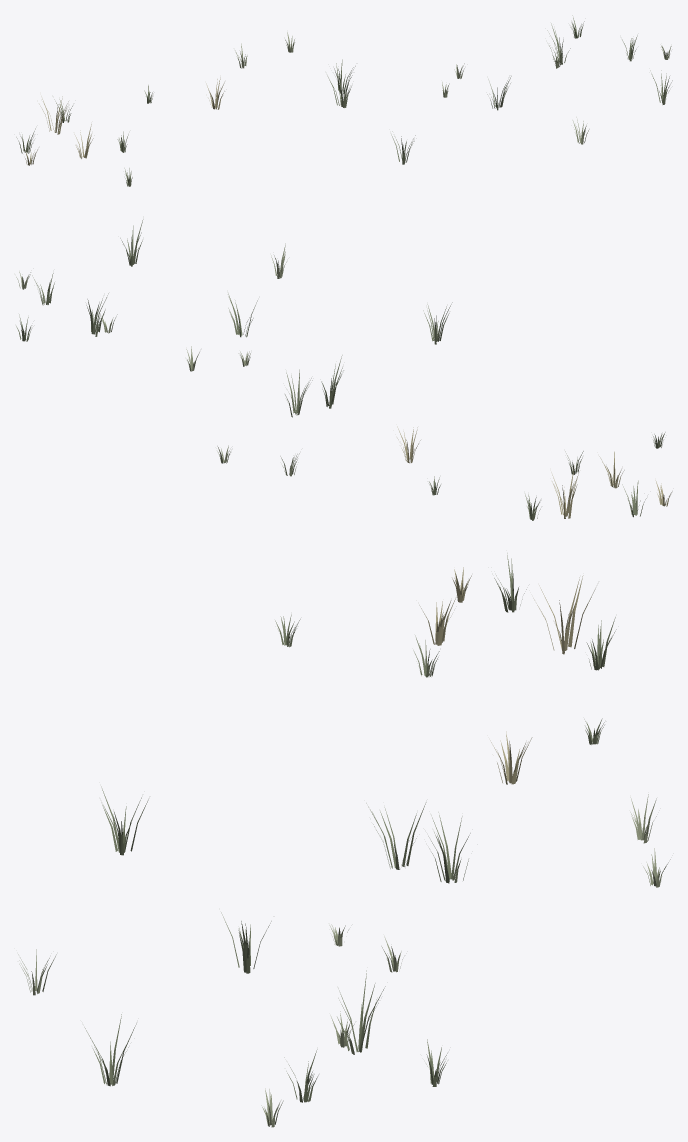
Rendered from AE_Grass_2_2.fbx.
3 views of the same model, one above another, from view 1: azimuth 30°, elevation 25°; view 2: azimuth 150°, elevation 25°; view 3: azimuth 270°, elevation 25° (orthographic). The views are drawn at different scales.
Visible parts, largest first — view 1: AE_Grass_2_2_LOD0; view 2: AE_Grass_2_2_LOD0; view 3: AE_Grass_2_2_LOD0.
Part boxes in pixels (<box>): AE_Grass_2_2_LOD0: <box>16,15,672,186</box>; AE_Grass_2_2_LOD0: <box>16,219,672,520</box>; AE_Grass_2_2_LOD0: <box>18,553,670,1127</box>.
Size of what is drawn, in the model's own units: 1580 by 104 by 818.
